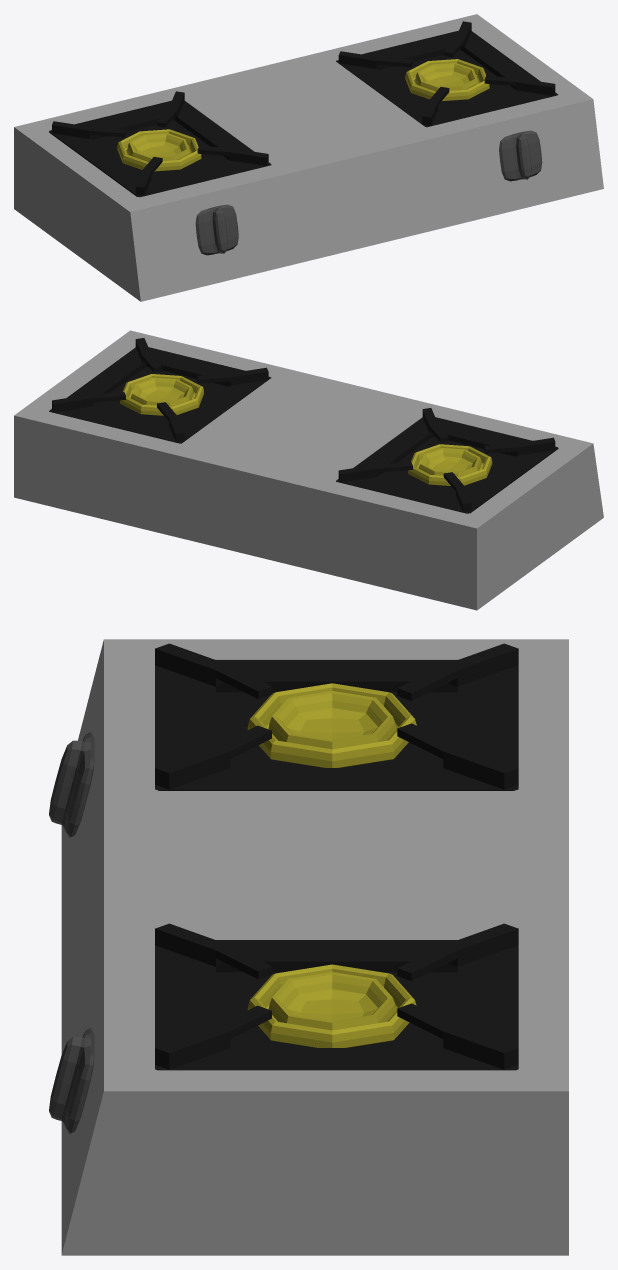
Rendered from kompor.fbx.
3 views of the same model, one above another, from view 1: azimuth 30°, elevation 25°; view 2: azimuth 150°, elevation 25°; view 3: azimuth 270°, elevation 25° (orthographic). The views are drawn at different scales.
Visible parts, largest first — view 1: Cube.030; view 2: Cube.030; view 3: Cube.030.
Boxes of the visible parts, left/top/right/bottom form: Cube.030: left=14, top=14, right=603, bottom=301; Cube.030: left=14, top=330, right=603, bottom=610; Cube.030: left=49, top=639, right=568, bottom=1255.
Size of the model in its own units: 169 by 31.57 by 82.18.
